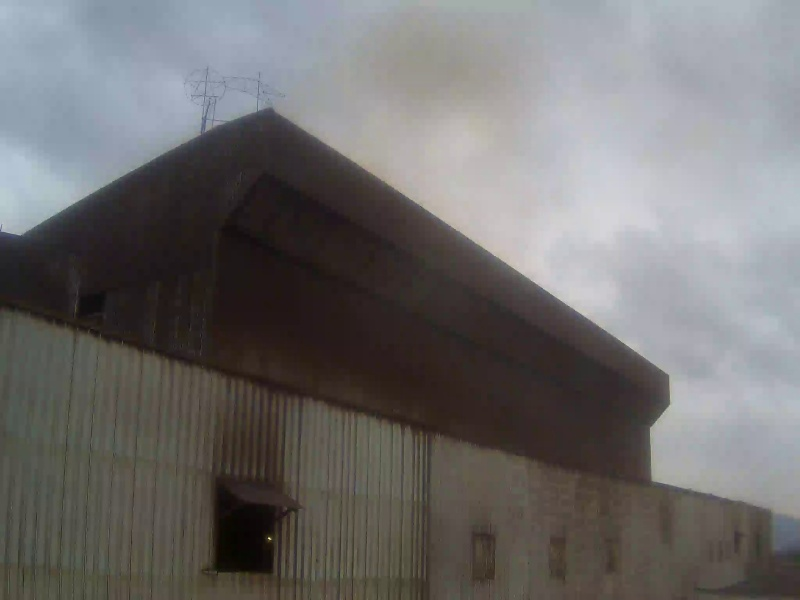bom: (618, 1, 800, 432), (1, 2, 209, 215), (74, 1, 282, 213)
ruim: (301, 2, 560, 286)
